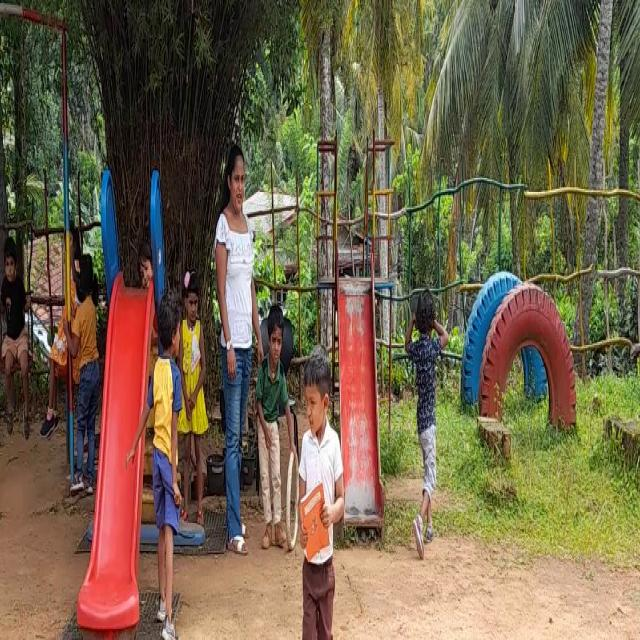adult: (220, 138, 258, 550)
child: (301, 346, 344, 640), (399, 290, 447, 542), (148, 309, 181, 640), (265, 305, 298, 550), (66, 257, 98, 488), (181, 256, 207, 524), (0, 226, 28, 422)
